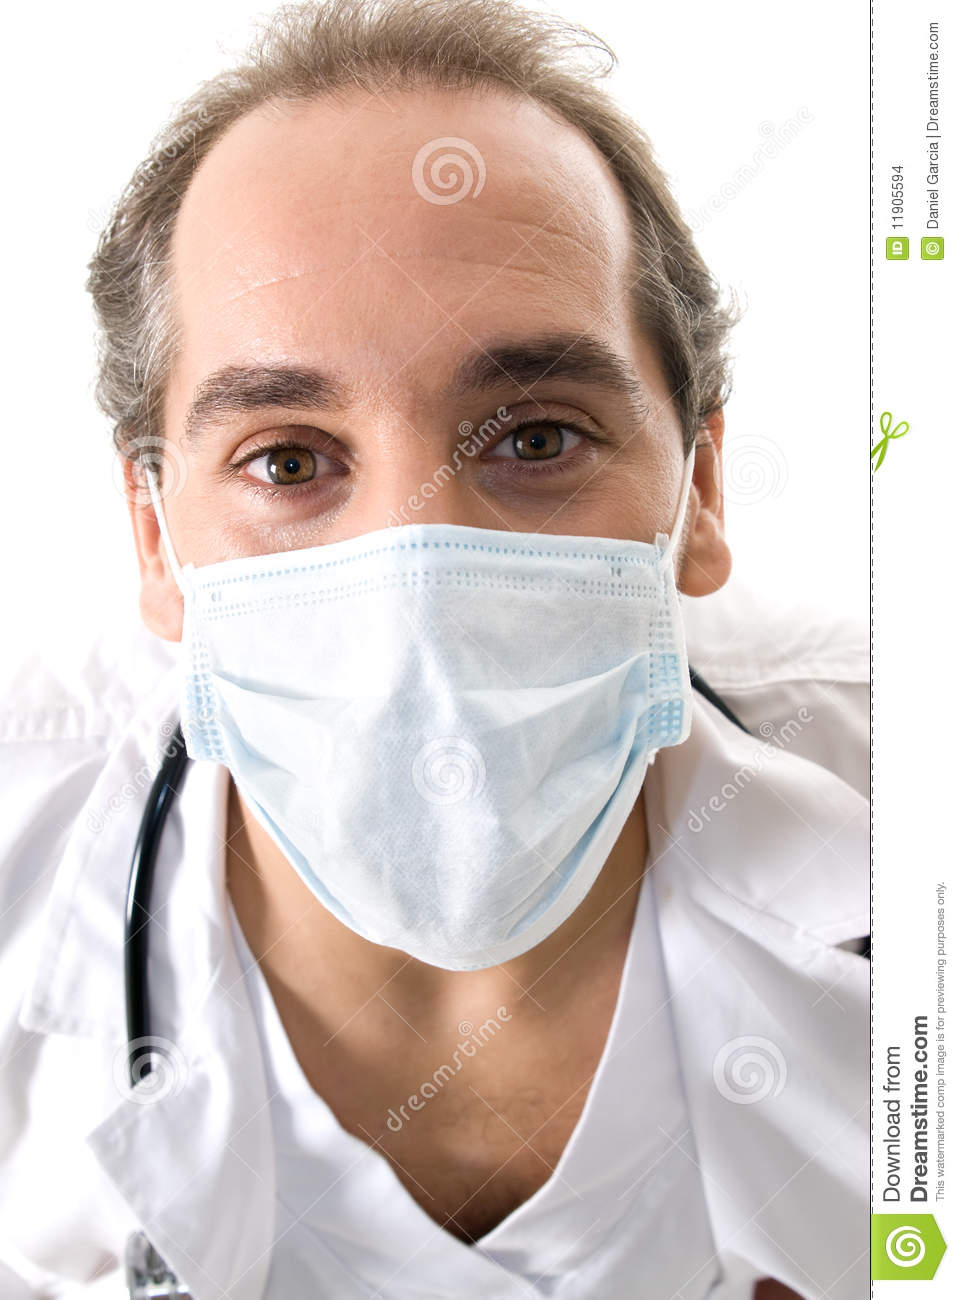mask: (169, 520, 696, 974)
